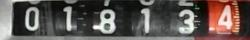digits: (177, 8, 195, 35), (217, 4, 233, 29), (100, 8, 115, 34), (24, 6, 39, 31), (140, 7, 152, 34), (62, 5, 73, 31)
